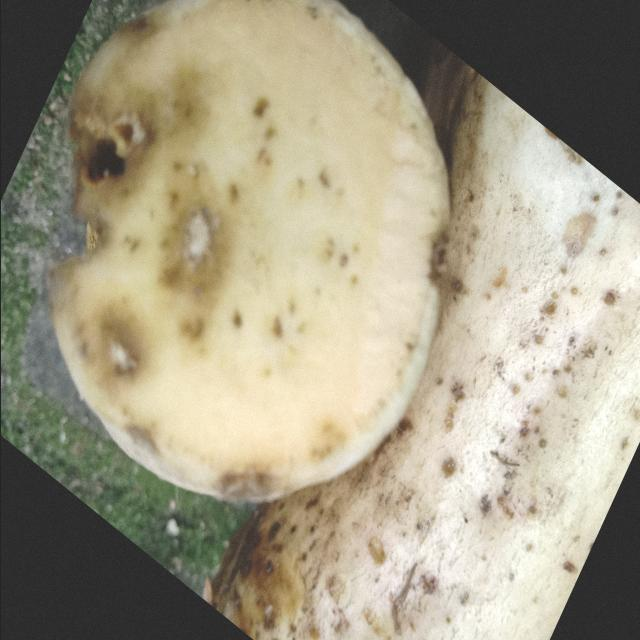Sick Sweet Potato_Tuber Rot: (46, 2, 449, 502)
